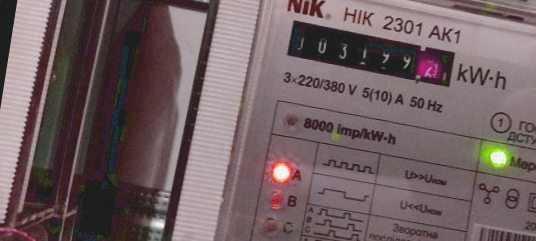0: (291, 29, 306, 52), (314, 33, 329, 55)
1: (358, 40, 371, 60)
3: (336, 39, 349, 60)
6: (422, 62, 435, 79)
9: (378, 44, 392, 66), (399, 49, 413, 70)
screen: (277, 14, 466, 96)
